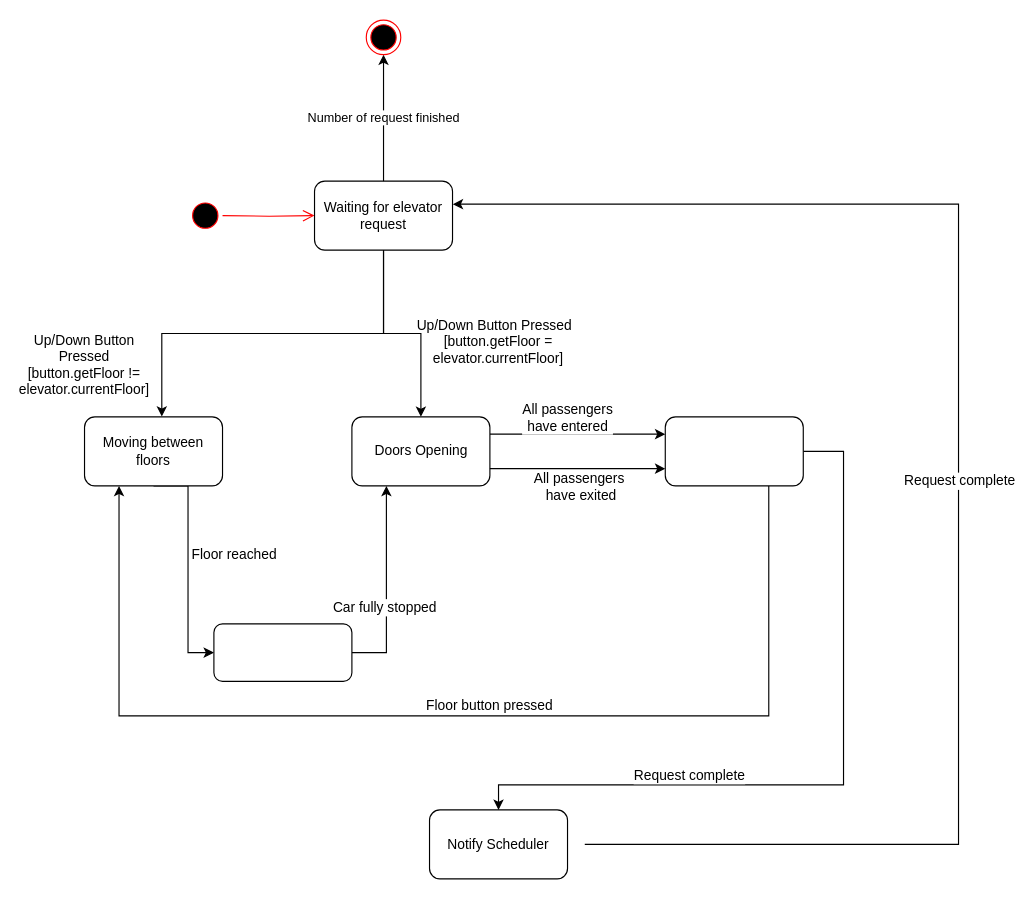
The diagram is 1035 pixels wide and 899 high, and some of its shapes have lost their labels. Each missing label, with the centre of its shape:
"Doors Closing" belongs at [733,451].
"Reached Destination" belongs at [282,652].
